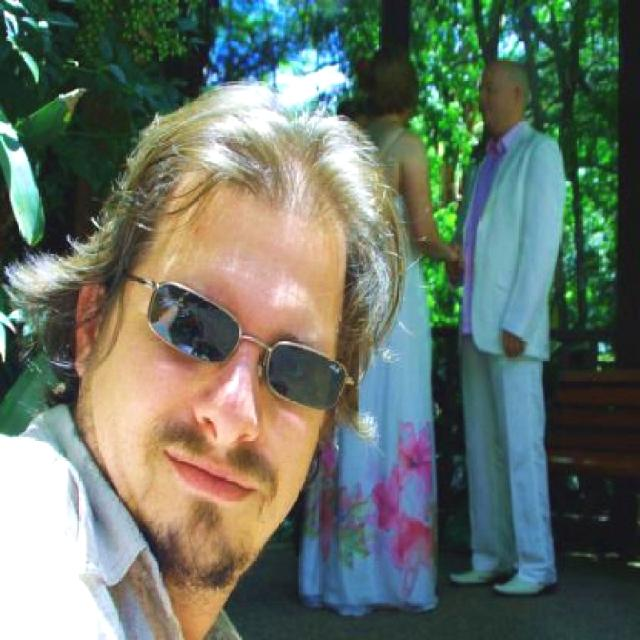face_nomask: (125, 290, 362, 519), (468, 71, 508, 127)
glasses: (99, 278, 356, 427)
head_nohelmet: (148, 101, 387, 224), (358, 55, 419, 87), (481, 60, 527, 86)
person: (305, 54, 438, 604), (450, 52, 558, 600)
shoes: (442, 547, 513, 588), (493, 558, 559, 598)
